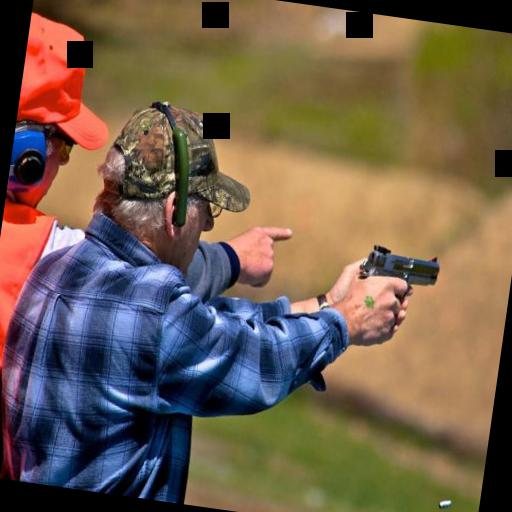Handgun: (354, 236, 442, 308)
